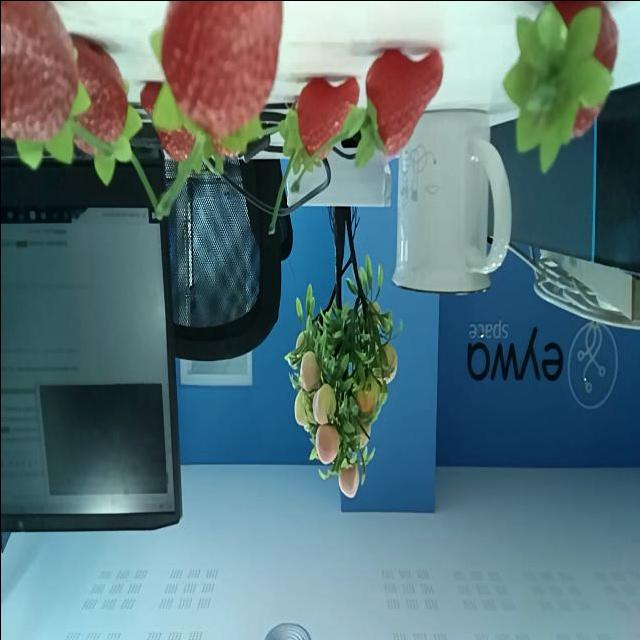ripe: (161, 2, 281, 146), (507, 0, 619, 154), (0, 0, 81, 145), (362, 37, 444, 163), (57, 33, 133, 167), (290, 67, 358, 169), (138, 69, 196, 173)
